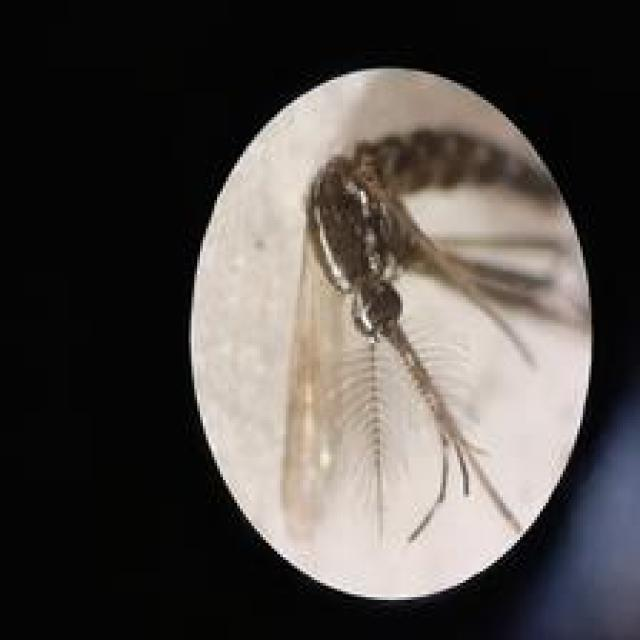Aedes albopictus: (278, 126, 582, 548)
